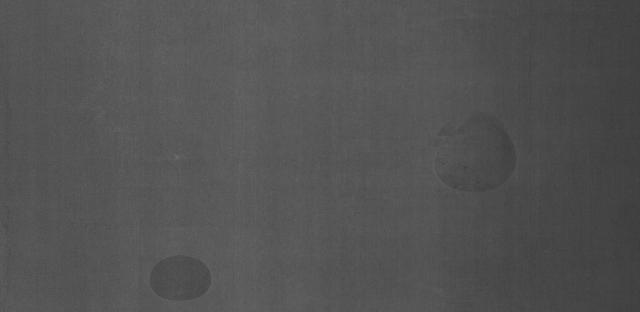oil_spot: (429, 101, 522, 199), (147, 247, 215, 304)
